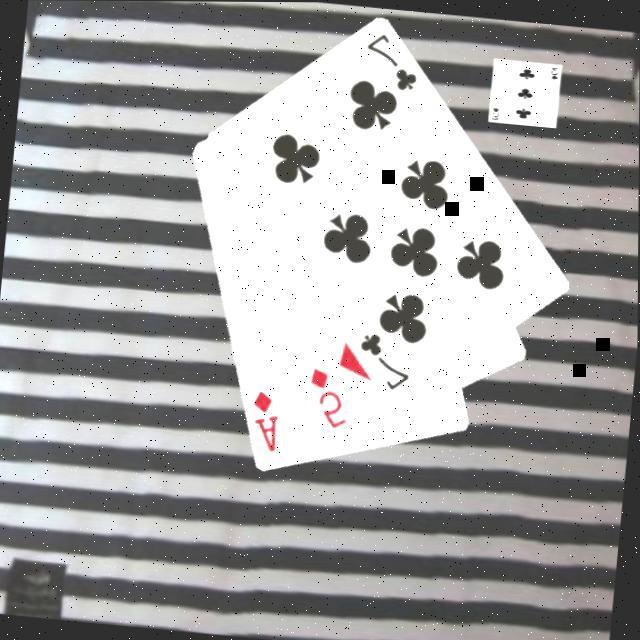5D: (302, 362, 356, 432)
7C: (352, 326, 418, 393), (360, 26, 424, 94)
AD: (247, 384, 285, 454)
